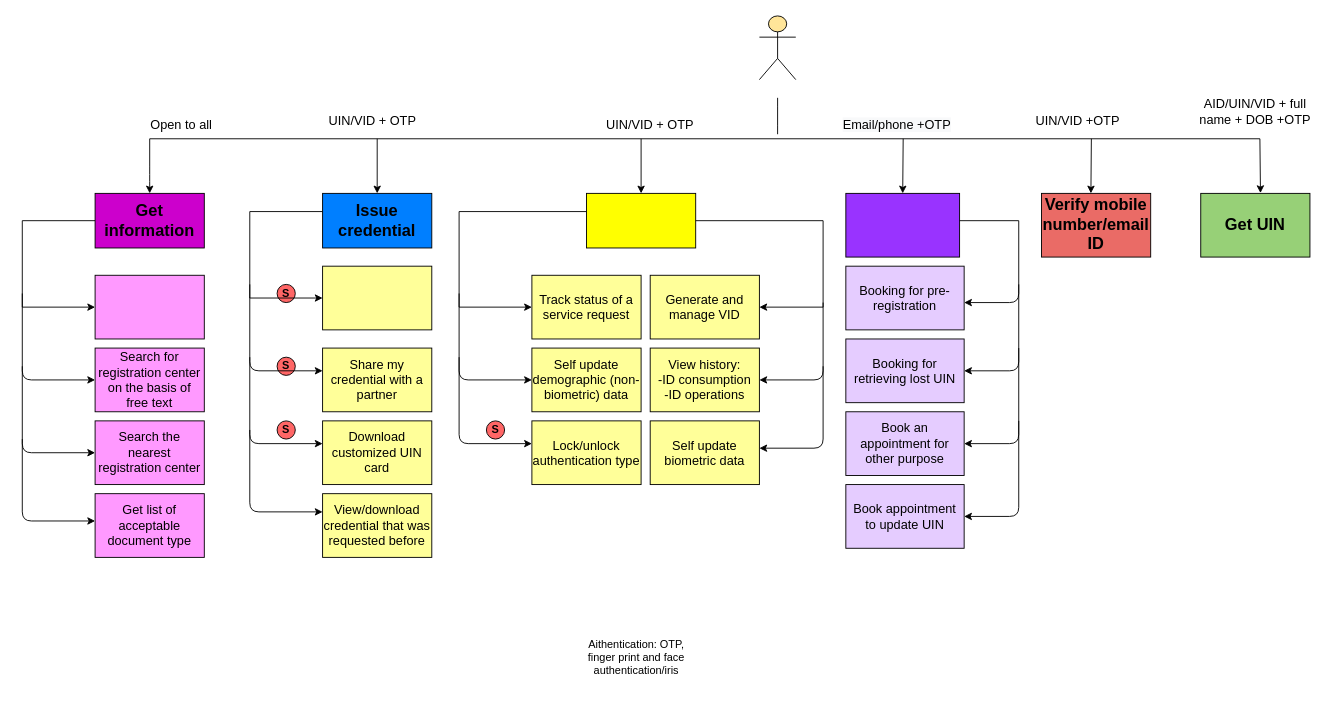
This 1335x701 diagram has some shape labels left out. The centre of each missing label's shape, as x and y in pixels:
Book appointment: the point at 902,224
Manage UIN/VID: the point at 641,220
Order a physical card: the point at 377,297
Search for registration center on the basis of location hierarchy: the point at 149,306
The resident: the point at 777,47
